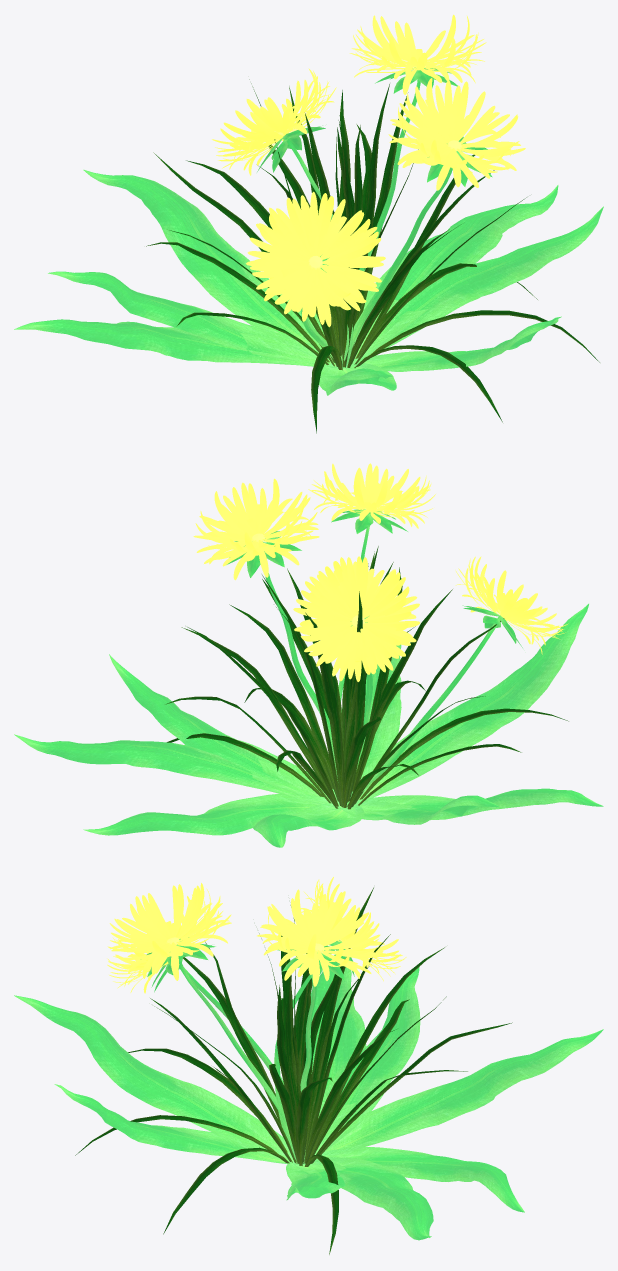
Rendered from dandelion.216acf70.glb.
3 renders of one model, top to bottom at view 1: azimuth 30°, elevation 25°; view 2: azimuth 150°, elevation 25°; view 3: azimuth 270°, elevation 25°, orthographic. The views are drawn at different scales.
Size of the model in its own units: 0.8718 by 0.4546 by 0.8215.
Materials: 5 (3 with a texture image).
